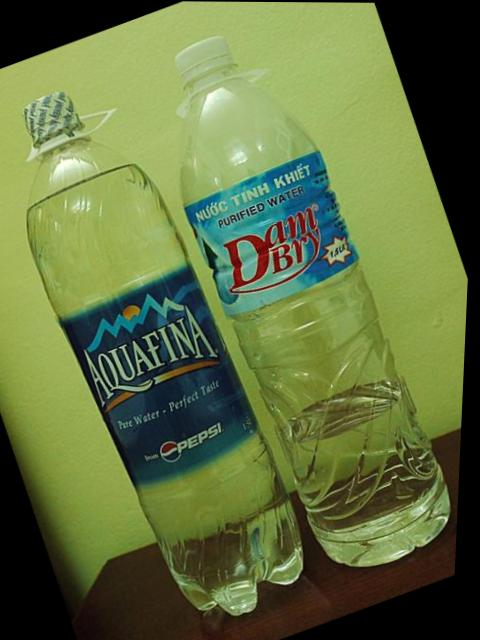plastic: (98, 4, 476, 612), (2, 37, 353, 614)
